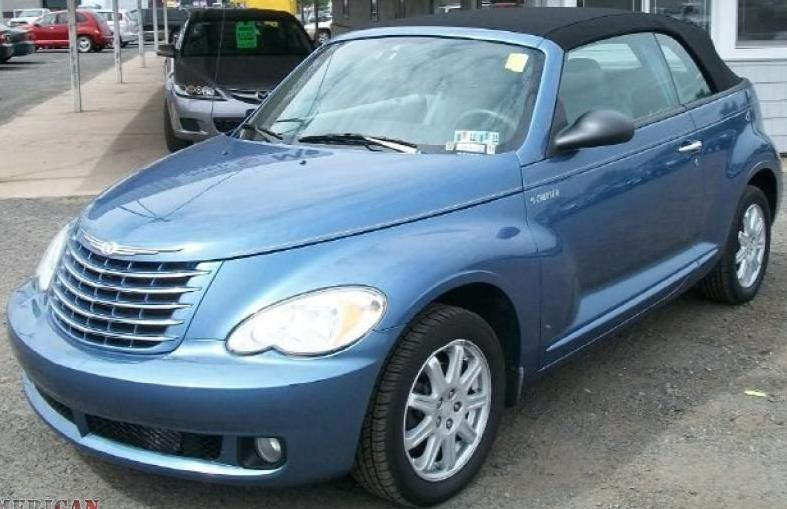front_view: (25, 228, 420, 457)
headlight: (232, 295, 399, 357)
side_glass: (535, 21, 740, 120)
